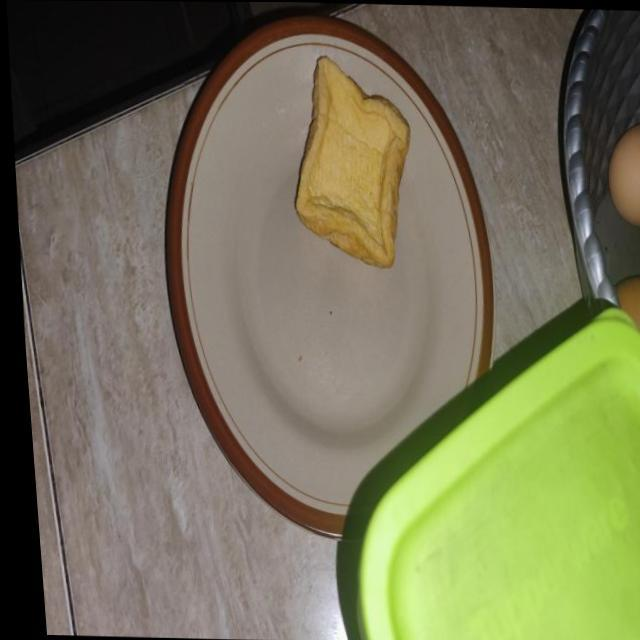tahu_goreng: (295, 56, 410, 267)
